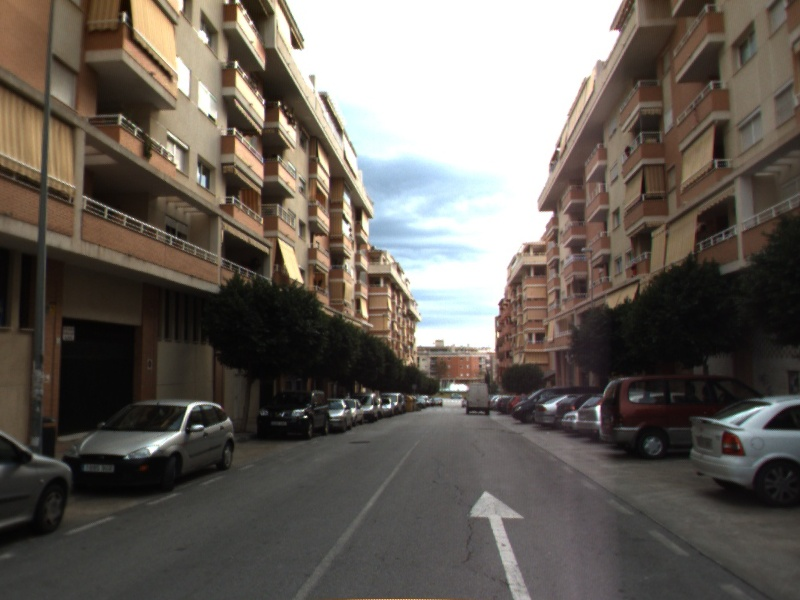STRAIGHT: (463, 488, 536, 600)
